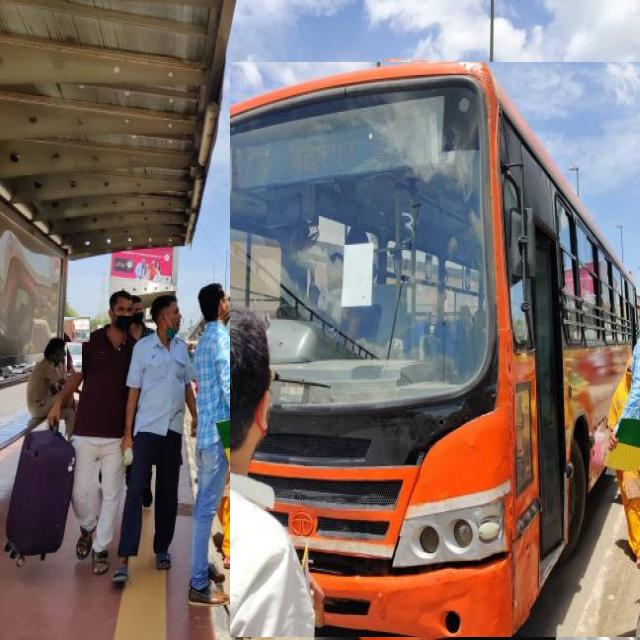bus: (230, 62, 640, 637)
car: (67, 342, 81, 373)
truck: (64, 318, 90, 342)
